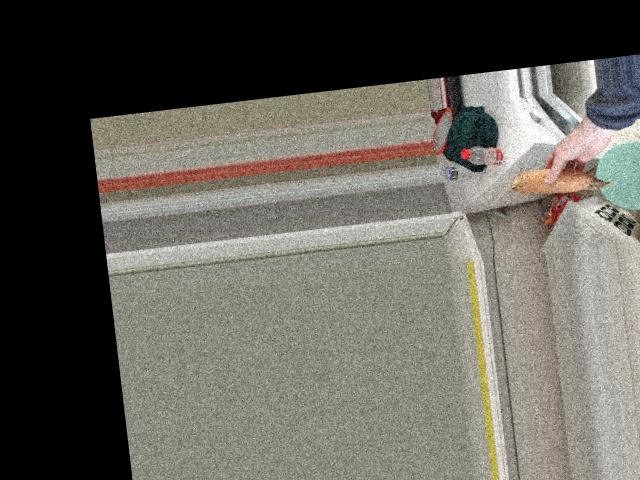sweet_potato: (518, 158, 603, 197)
